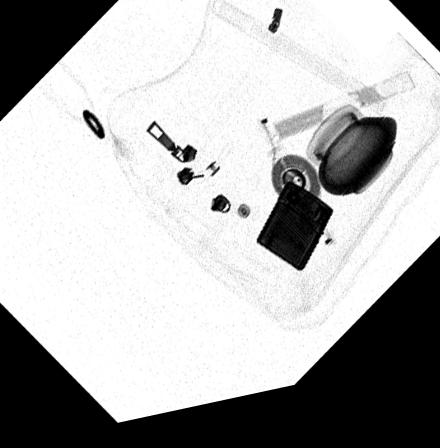Lighter: (253, 191, 334, 283)
